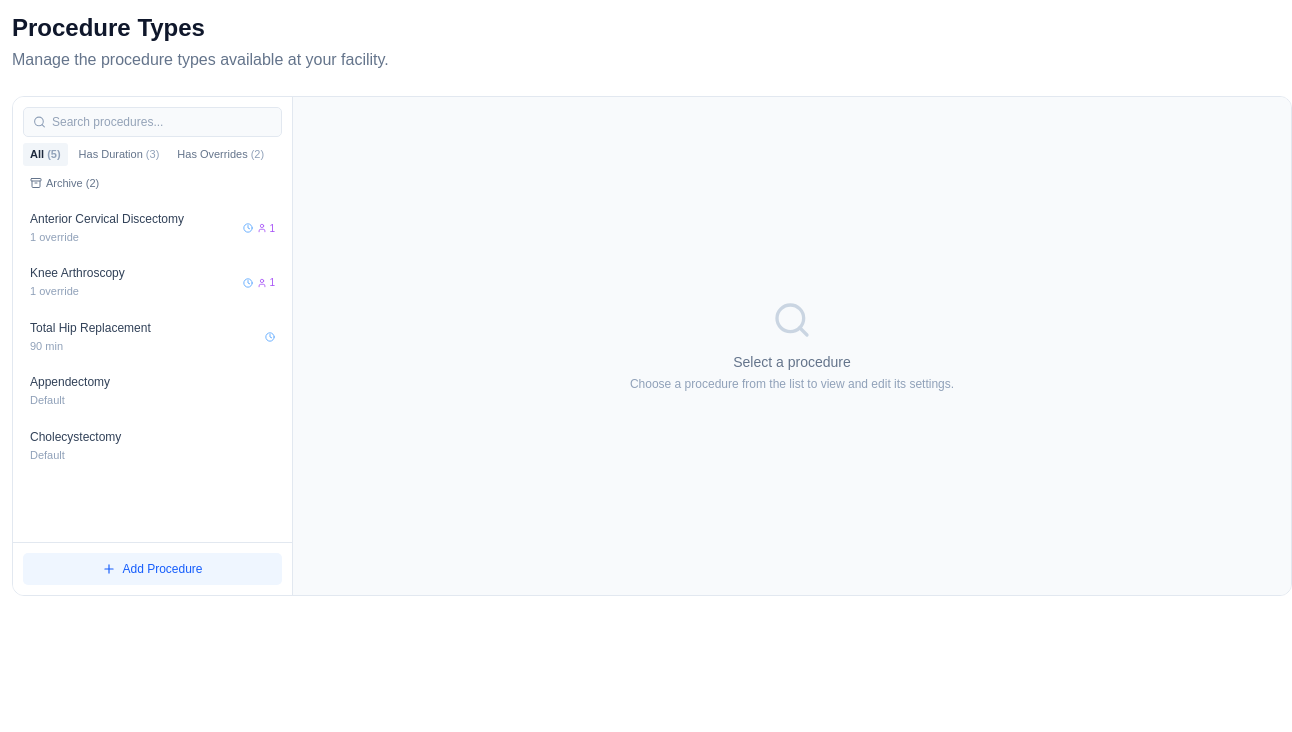
Test case: ProceduresSettingsPage › [COUNT-LIST PARITY] Has Duration tab count = 3, and only 3 procedures shown
Click "Has Duration" tab
Click the button "Has Duration (3)".
click(119, 154)  # box [72,143,166,166]
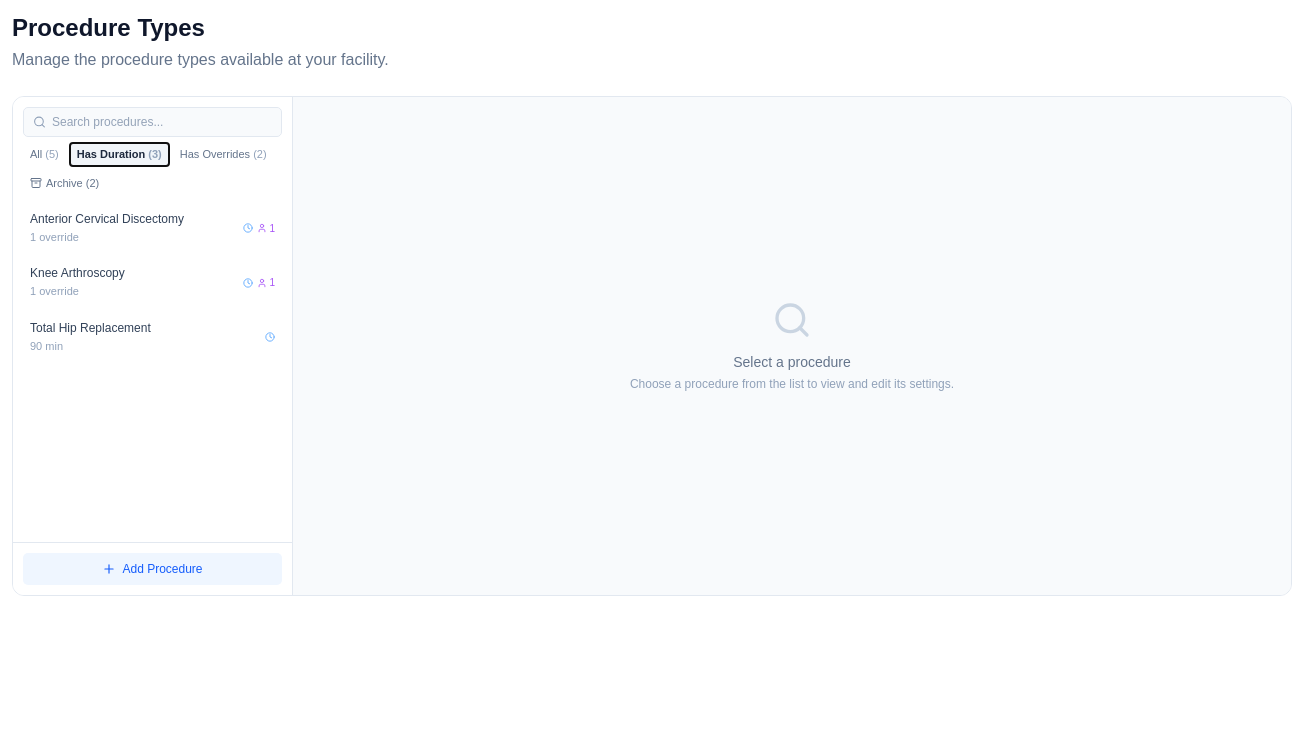
Expected: the text "Anterior Cervical Discectomy" is shown, [30,212,184,226]
Now the text "Appendectomy" is gone
Now the text "Cholecystectomy" is gone
